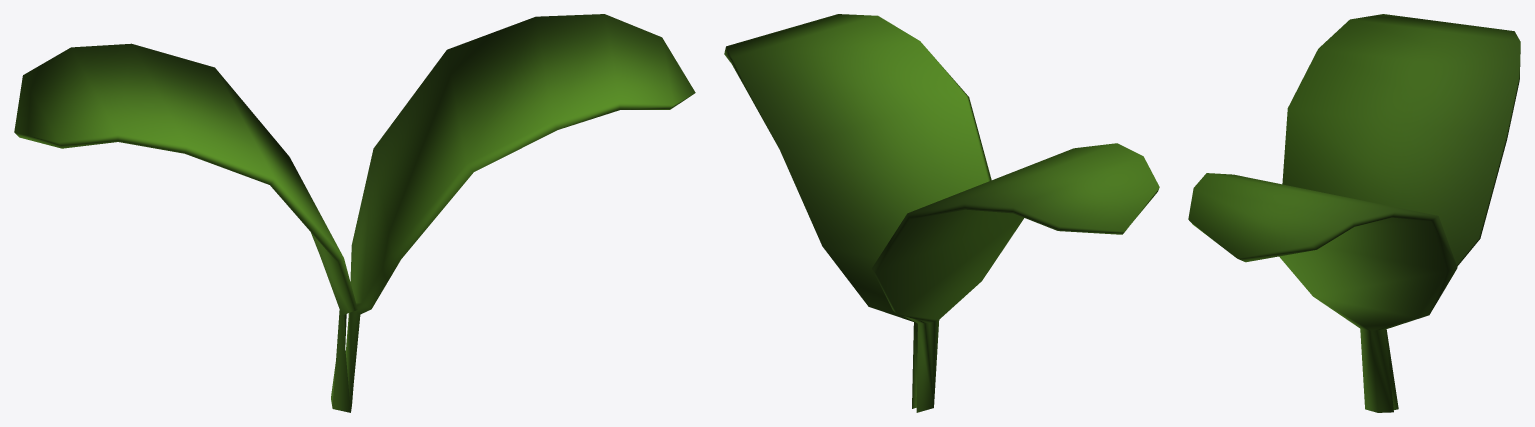
File: grass_2.glb
3 views of the same model, side by side, from view 1: azimuth 30°, elevation 25°; view 2: azimuth 150°, elevation 25°; view 3: azimuth 270°, elevation 25° (orthographic). The views are drawn at different scales.
Parts seen in each view (by area): view 1: grass_2; view 2: grass_2; view 3: grass_2.
Boxes of the visible parts, x1,y1,x2,y2 form: grass_2: [14, 14, 695, 412]; grass_2: [724, 14, 1159, 412]; grass_2: [1188, 14, 1520, 412].
Size of the model in its own units: 0.7746 by 0.4529 by 0.4701.
Materials: 1 (1 with a texture image).
